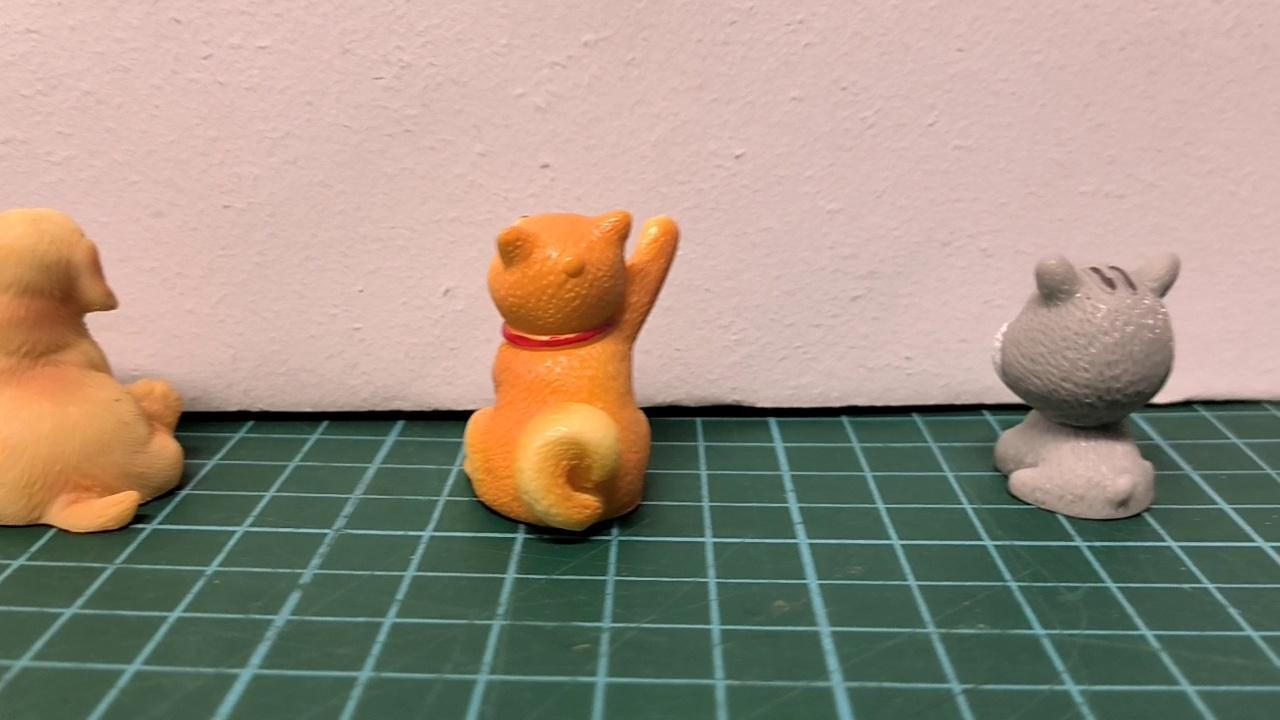pet: (459, 211, 683, 535), (0, 202, 188, 536), (982, 250, 1184, 527)
